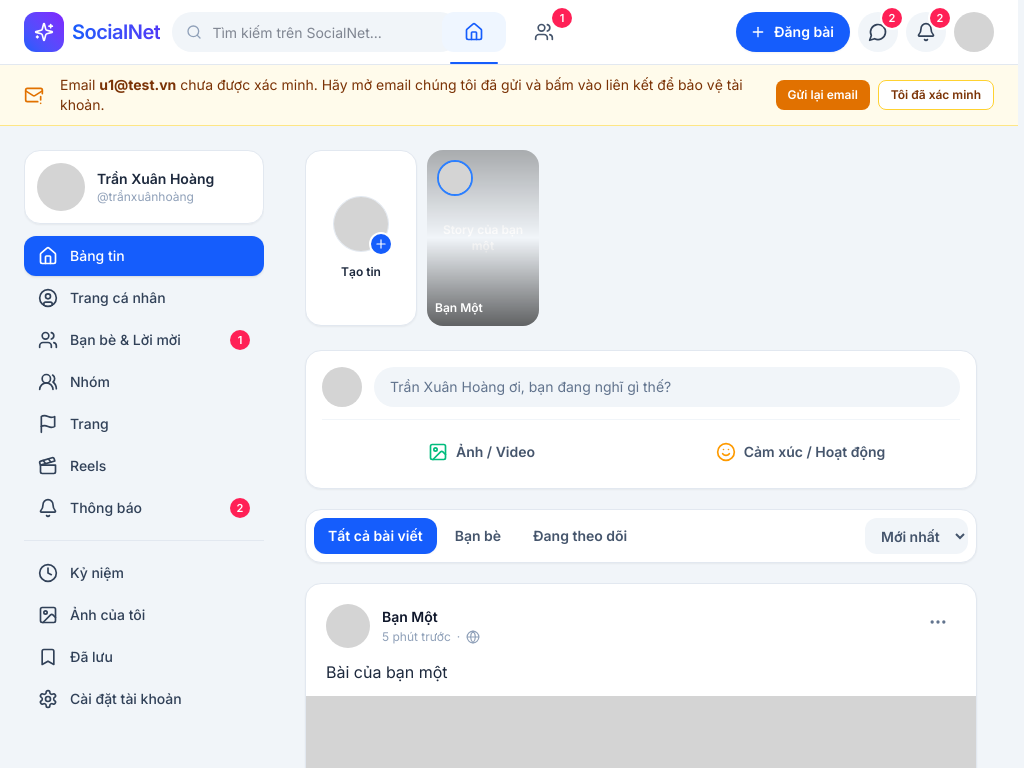
Test case: Banner nhắc xác minh › "Tôi đã xác minh" khi vẫn chưa xác minh → toast nhắc, banner còn
Click the button "Tôi đã xác minh" at (936, 95), box [878,80,994,110]
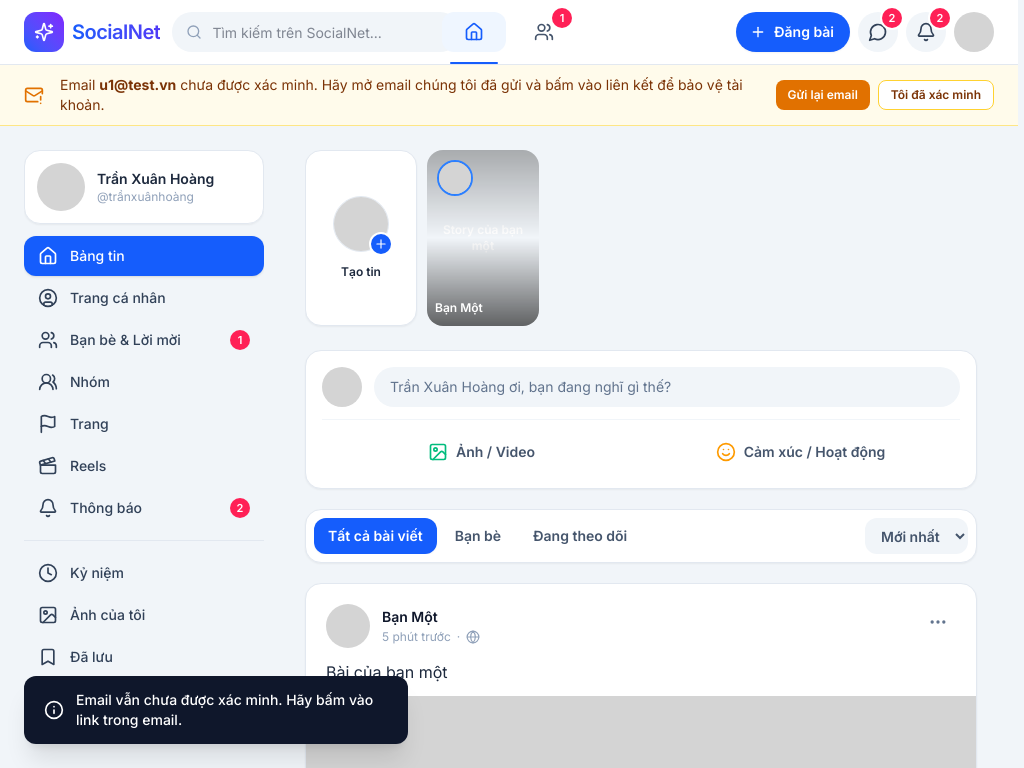
expect the text "Hãy mở email chúng tôi đã gửi" is shown: met, box [60,76,743,113]
expect the text "Email vẫn chưa được xác minh. Hãy bấm vào link trong email." is shown: met, box [76,690,388,730]
